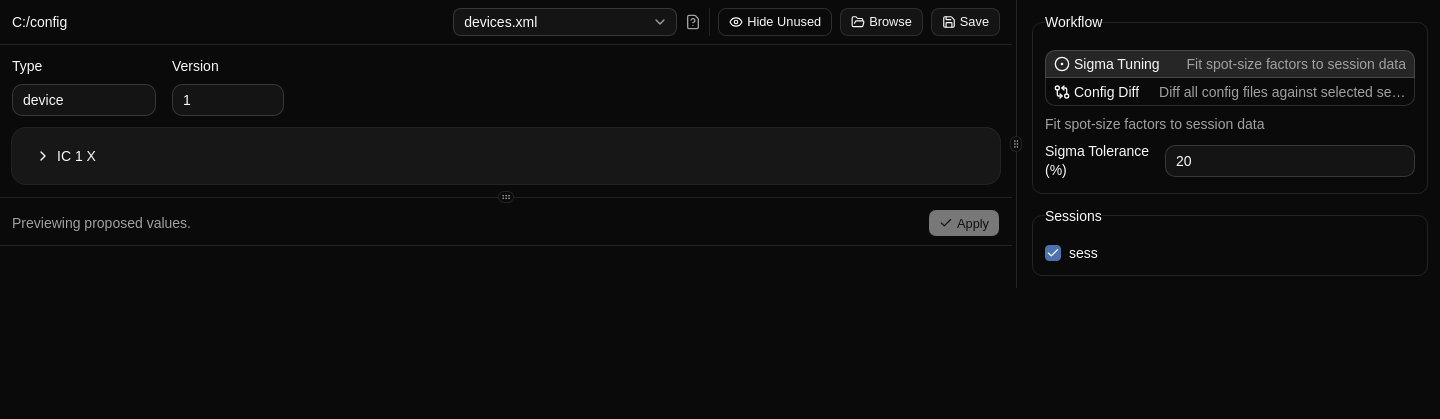
Test case: previews a tune, then applies it after confirmation
The width and height of the screenshot is (1440, 419).
Check: the element named "No .md5 sidecar" is shown, box [685,14,701,30]
Check: the text "Beam sigma" is not shown
Click the button "IC 1 X".
click(76, 156)  # box [24,140,988,172]
Wait 200 ms
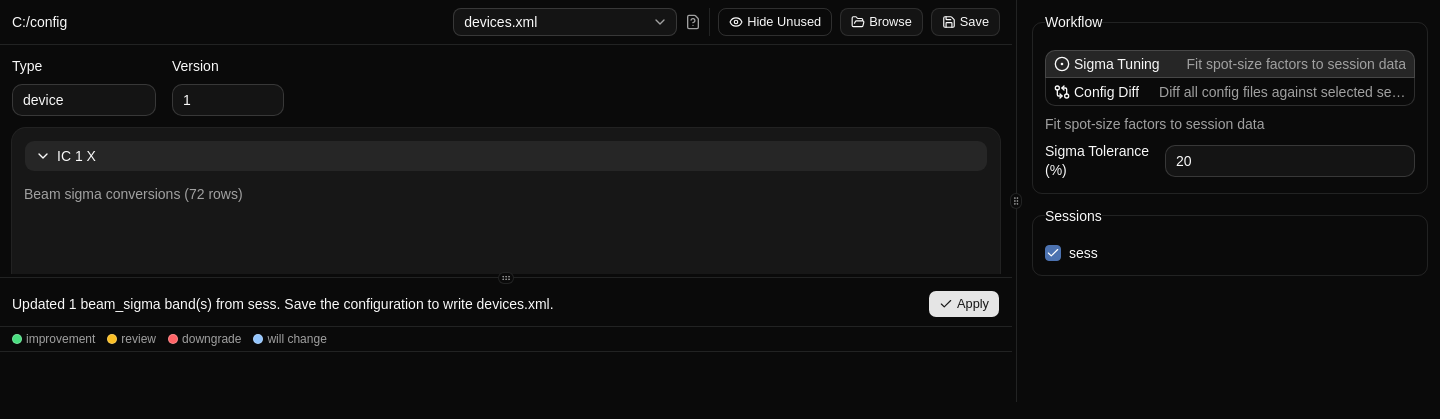
Check: the text "Beam sigma" is shown, box [24,186,243,202]
Check: the text "Updated 1 beam_sigma" is shown, box [12,296,554,312]
Click the button "Apply".
click(964, 304)  # box [928,290,1000,318]
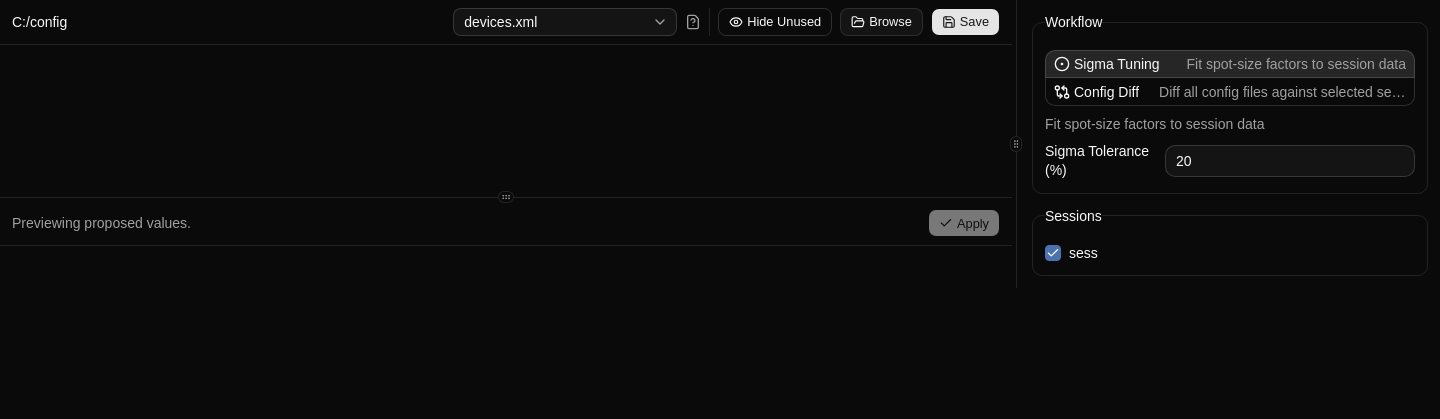
Check: the text "Version" is gone
